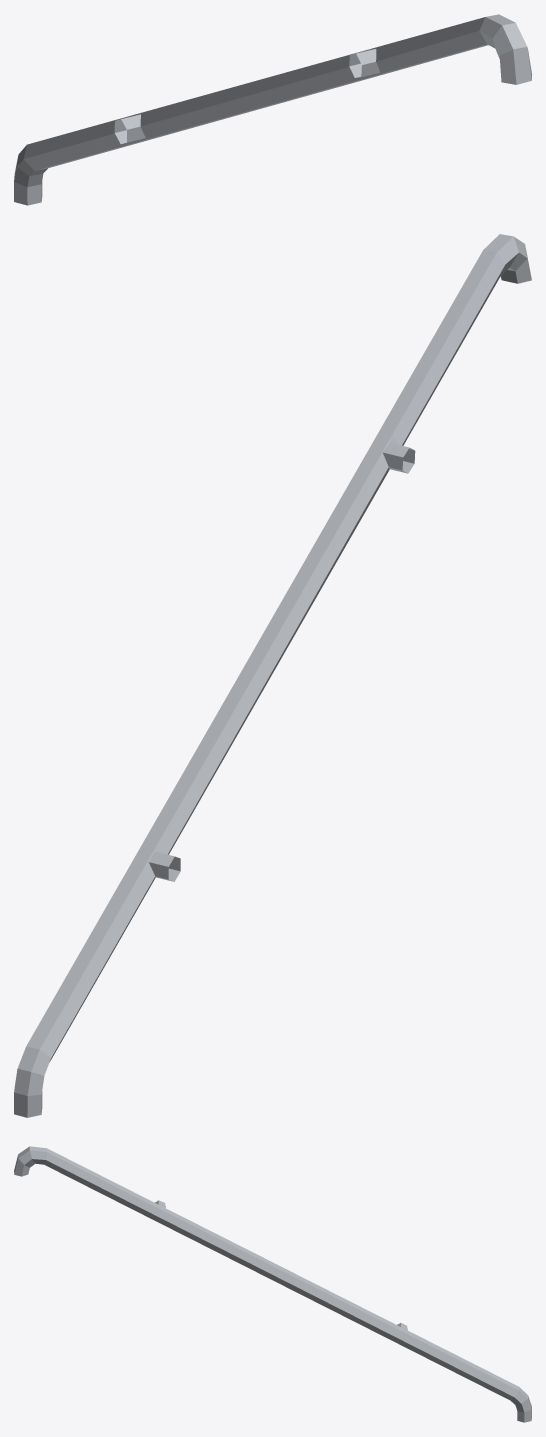
The model's file is Int_Railings01.fbx.
3 renders of one model, top to bottom at view 1: azimuth 30°, elevation 25°; view 2: azimuth 150°, elevation 25°; view 3: azimuth 270°, elevation 25°, orthographic. The views are drawn at different scales.
Parts seen in each view (by area): view 1: Int_Railings01; view 2: Int_Railings01; view 3: Int_Railings01.
Part boxes in pixels (left/top/right/bottom): Int_Railings01: left=14, top=14, right=531, bottom=205; Int_Railings01: left=14, top=234, right=531, bottom=1117; Int_Railings01: left=14, top=1146, right=531, bottom=1422.
Size of what is drawn, in the model's own units: 18.25 by 371 by 214.
